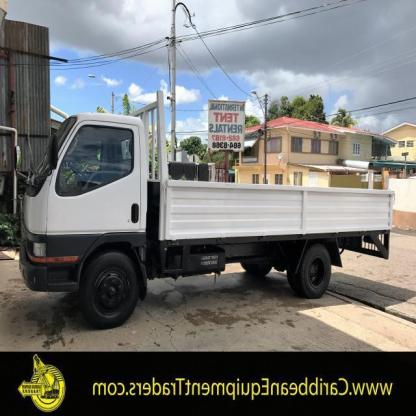truck: (22, 113, 394, 326)
